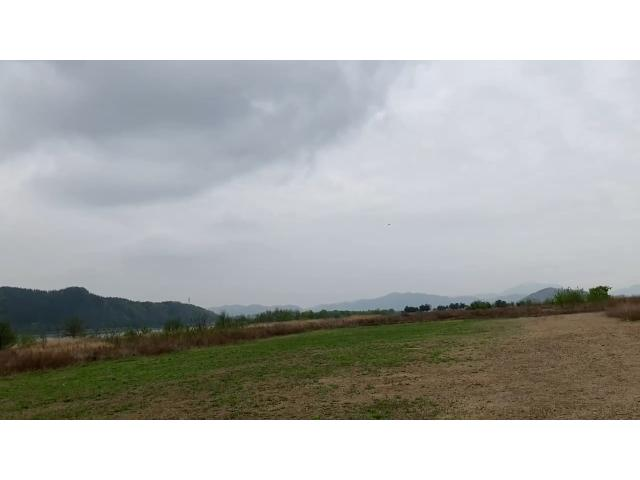Anti-Drone: (382, 220, 396, 232)
